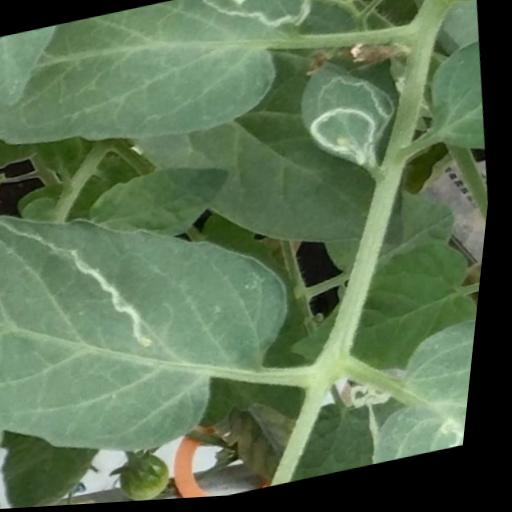Leaf_Miner: (0, 152, 325, 486), (0, 0, 334, 179), (287, 51, 412, 183)
